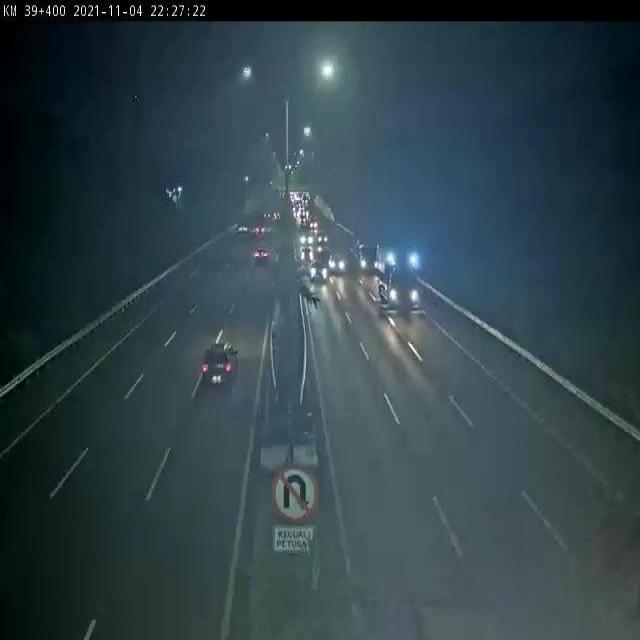ARABA: (200, 342, 237, 387), (328, 255, 347, 277), (309, 256, 326, 280), (250, 250, 270, 270)
TIR: (376, 241, 421, 312), (350, 235, 380, 272)
